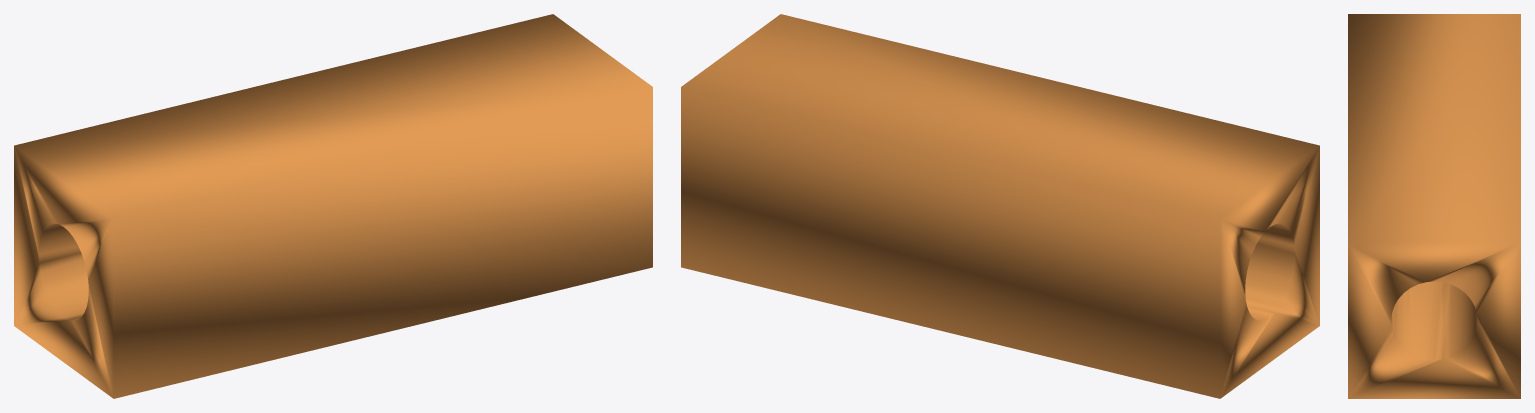
Rendered from expected.gltf.
3 renders of one model, left to right at view 1: azimuth 30°, elevation 25°; view 2: azimuth 150°, elevation 25°; view 3: azimuth 270°, elevation 25°, orthographic. The views are drawn at different scales.
Size of the model in its own units: 50 by 16 by 16.
